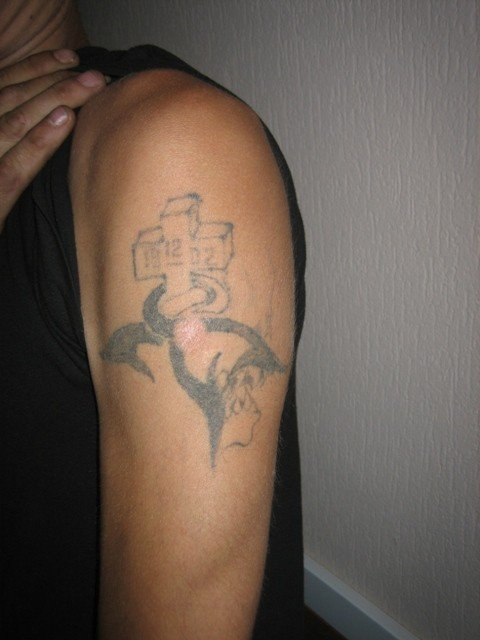tatu9_krest: (128, 185, 244, 286)
